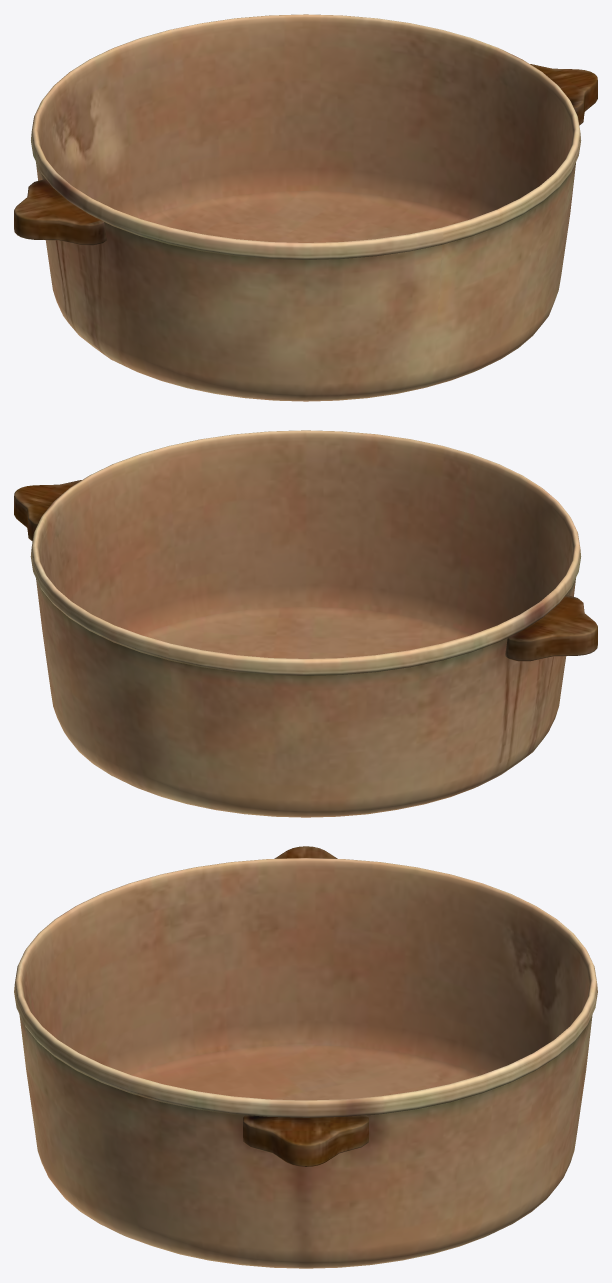
Rendered from brass_pot_02.glb.
3 renders of one model, top to bottom at view 1: azimuth 30°, elevation 25°; view 2: azimuth 150°, elevation 25°; view 3: azimuth 270°, elevation 25°, orthographic. The views are drawn at different scales.
Visible parts, largest first — view 1: brass_pot_02; view 2: brass_pot_02; view 3: brass_pot_02.
Boxes of the visible parts, left/top/right/bottom form: brass_pot_02: left=14, top=14, right=597, bottom=401; brass_pot_02: left=14, top=430, right=597, bottom=817; brass_pot_02: left=14, top=846, right=597, bottom=1268.
Size of the model in its own units: 0.3667 by 0.1085 by 0.3023.
1 material, 1 textured.
